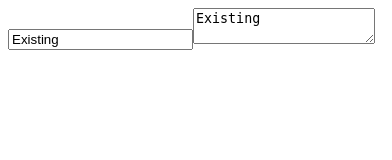
it: ClickToEditField › starts read-only and enables on click
Click the field named "Title".
click(100, 40)  # box x1=8 y1=29 x2=193 y2=50
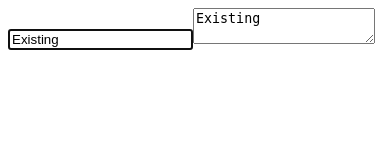
Result: the field named "Title" does not have attribute readonly
Type " edited" into the field named "Title".
click(100, 40); type(" edited")  # box x1=8 y1=29 x2=193 y2=50
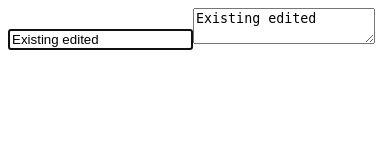
Result: the field named "Title" holds "Existing edited" at x1=8 y1=29 x2=193 y2=50
